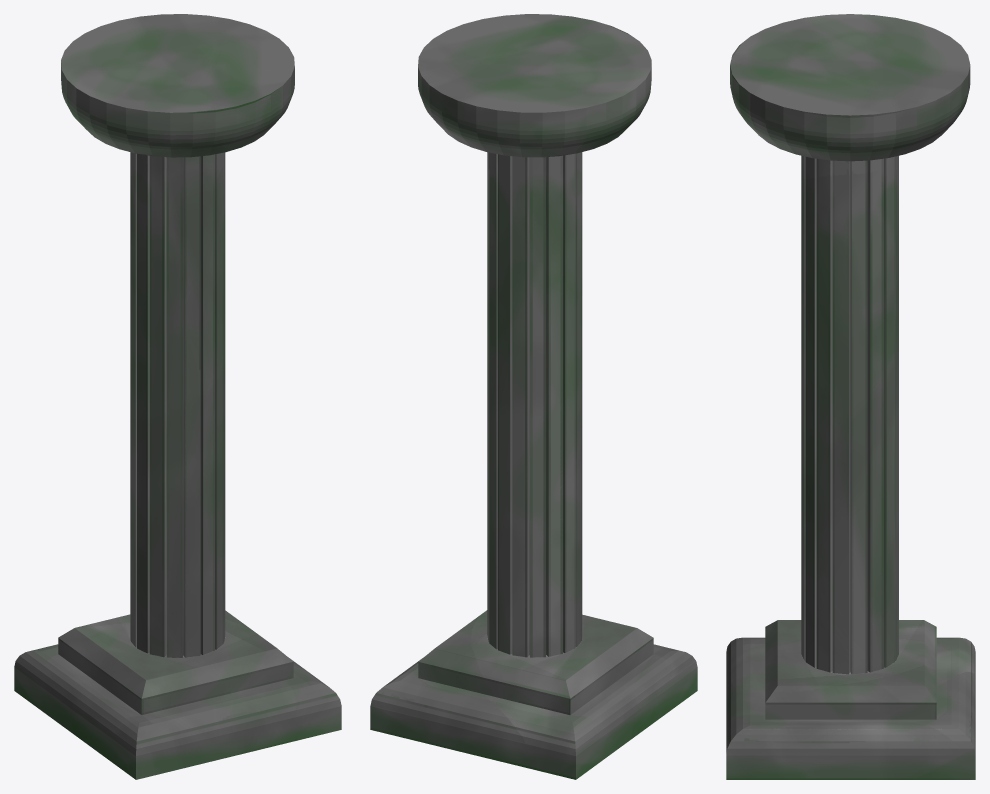
File: column.fbx
The picture shows the model from 3 angles, left to right: view 1: azimuth 30°, elevation 25°; view 2: azimuth 150°, elevation 25°; view 3: azimuth 270°, elevation 25°; orthographic projection. The views are drawn at different scales.
Visible parts, largest first — view 1: Cube; view 2: Cube; view 3: Cube.
Boxes of the visible parts, x1,y1,x2,y2 form: Cube: (14, 14, 341, 779); Cube: (370, 14, 697, 779); Cube: (726, 14, 975, 779).
Bounding box in the file's own units: 0.8962 × 2.7 × 0.9188.
1 material, 1 textured.
